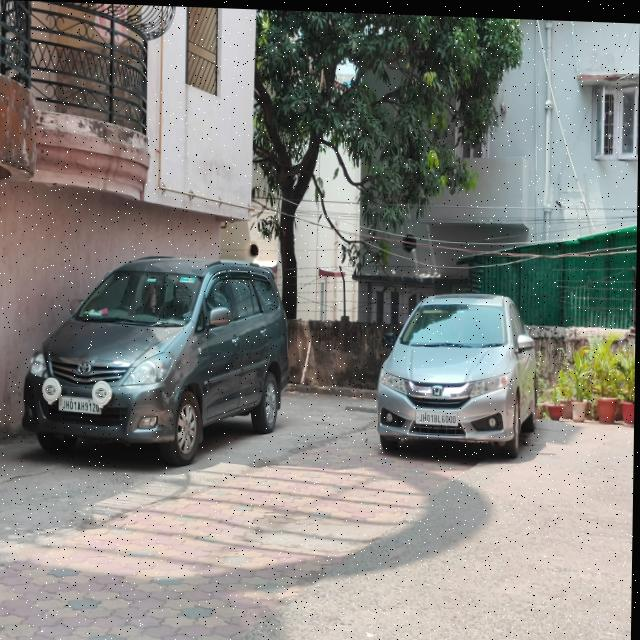car: (20, 238, 296, 476), (375, 276, 547, 472)
